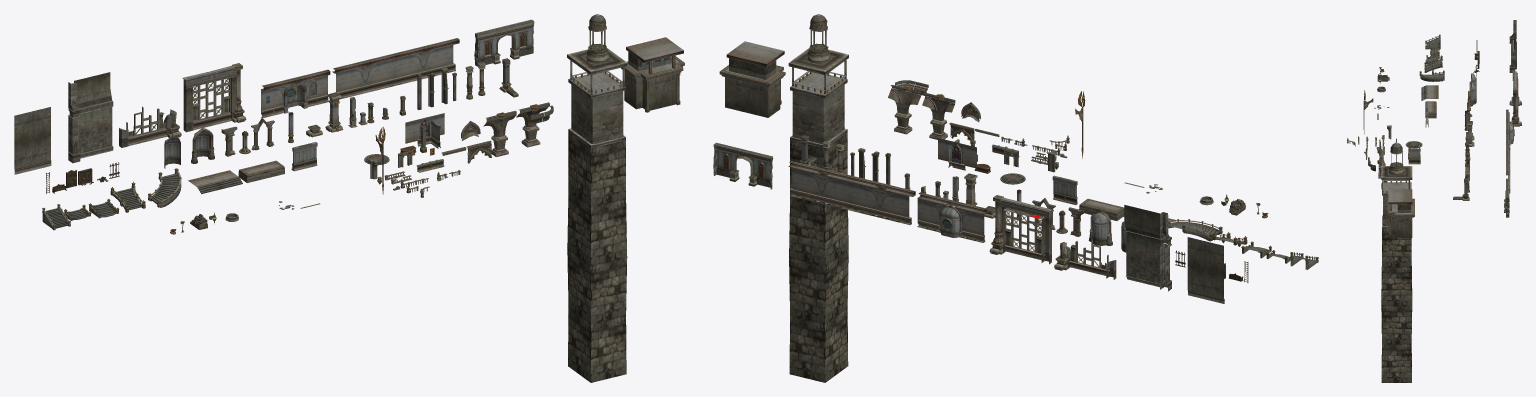
Rendered from d_1009_railing.FBX.
The picture shows the model from 3 angles, left to right: view 1: azimuth 30°, elevation 25°; view 2: azimuth 150°, elevation 25°; view 3: azimuth 270°, elevation 25°; orthographic projection. The views are drawn at different scales.
Visible parts, largest first — view 1: w_1009_railing69, w_1009_railing32, w_1009_railing70, w_1009_railing39, w_1009_railing37, w_1009_railing40, w_1009_railing31, w_1009_railing22, w_1009_railing080, w_1009_railing68, w_1009_railing23, w_1009_railing57 (+5 smaller); view 2: w_1009_railing69, w_1009_railing32, w_1009_railing70, w_1009_railing39, w_1009_railing37, w_1009_railing31, w_1009_railing40, w_1009_railing22, w_1009_railing080, w_1009_railing073, w_1009_railing23, w_1009_railing27 (+4 smaller); view 3: w_1009_railing69, w_1009_railing70, w_1009_railing37, w_1009_railing39, w_1009_railing57, w_1009_railing32, w_1009_railing68, w_1009_railing26, w_1009_railing31, w_1009_railing50, w_1009_railing22, w_1009_railing072 (+1 smaller).
Boxes of the visible parts, x1,y1,x2,y2 form: w_1009_railing69: [567, 14, 627, 382]; w_1009_railing32: [332, 38, 459, 99]; w_1009_railing70: [621, 37, 684, 112]; w_1009_railing39: [68, 72, 113, 163]; w_1009_railing37: [182, 63, 246, 132]; w_1009_railing40: [14, 107, 51, 174]; w_1009_railing31: [261, 69, 330, 118]; w_1009_railing22: [474, 19, 534, 66]; w_1009_railing080: [119, 106, 181, 147]; w_1009_railing68: [148, 168, 181, 207]; w_1009_railing23: [483, 110, 516, 156]; w_1009_railing57: [188, 170, 242, 194]; w_1009_railing69: [788, 14, 848, 382]; w_1009_railing32: [788, 161, 915, 224]; w_1009_railing70: [719, 41, 785, 117]; w_1009_railing39: [1124, 205, 1171, 291]; w_1009_railing37: [989, 195, 1053, 264]; w_1009_railing31: [917, 192, 986, 242]; w_1009_railing40: [1187, 237, 1224, 303]; w_1009_railing22: [713, 142, 773, 189]; w_1009_railing080: [1054, 239, 1116, 279]; w_1009_railing073: [888, 85, 921, 134]; w_1009_railing23: [922, 93, 955, 139]; w_1009_railing27: [938, 138, 976, 168]; w_1009_railing69: [1381, 142, 1412, 382]; w_1009_railing70: [1387, 189, 1414, 237]; w_1009_railing37: [1510, 72, 1521, 126]; w_1009_railing39: [1509, 20, 1516, 80]; w_1009_railing57: [1421, 85, 1438, 100]; w_1009_railing32: [1506, 132, 1510, 192]; w_1009_railing68: [1419, 70, 1444, 81]; w_1009_railing26: [1408, 148, 1420, 164]; w_1009_railing31: [1506, 109, 1514, 149]; w_1009_railing50: [1424, 55, 1442, 72]; w_1009_railing22: [1504, 178, 1509, 217]; w_1009_railing072: [1425, 101, 1436, 118].
Size of the model in its own units: 24677 by 13830 by 9331.
1 material, 1 textured.
